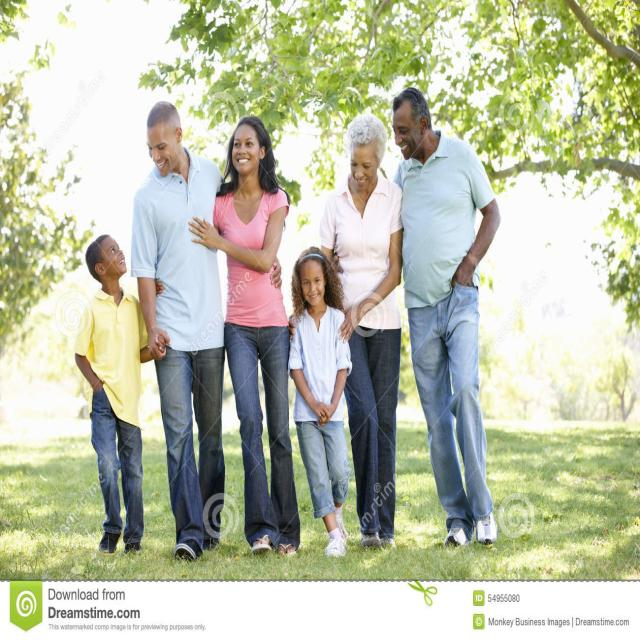body: (128, 98, 284, 563), (389, 86, 502, 550), (287, 111, 404, 550), (188, 115, 300, 556), (73, 231, 169, 562), (281, 245, 353, 560)
